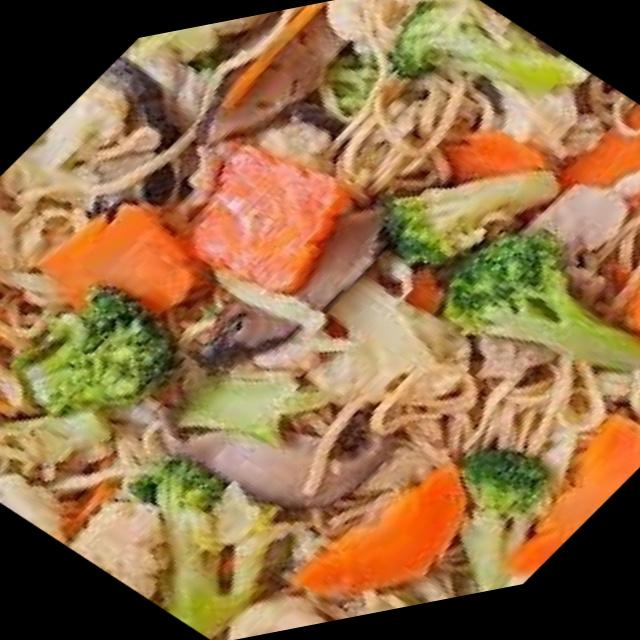pancit bihon: (0, 0, 639, 639)
